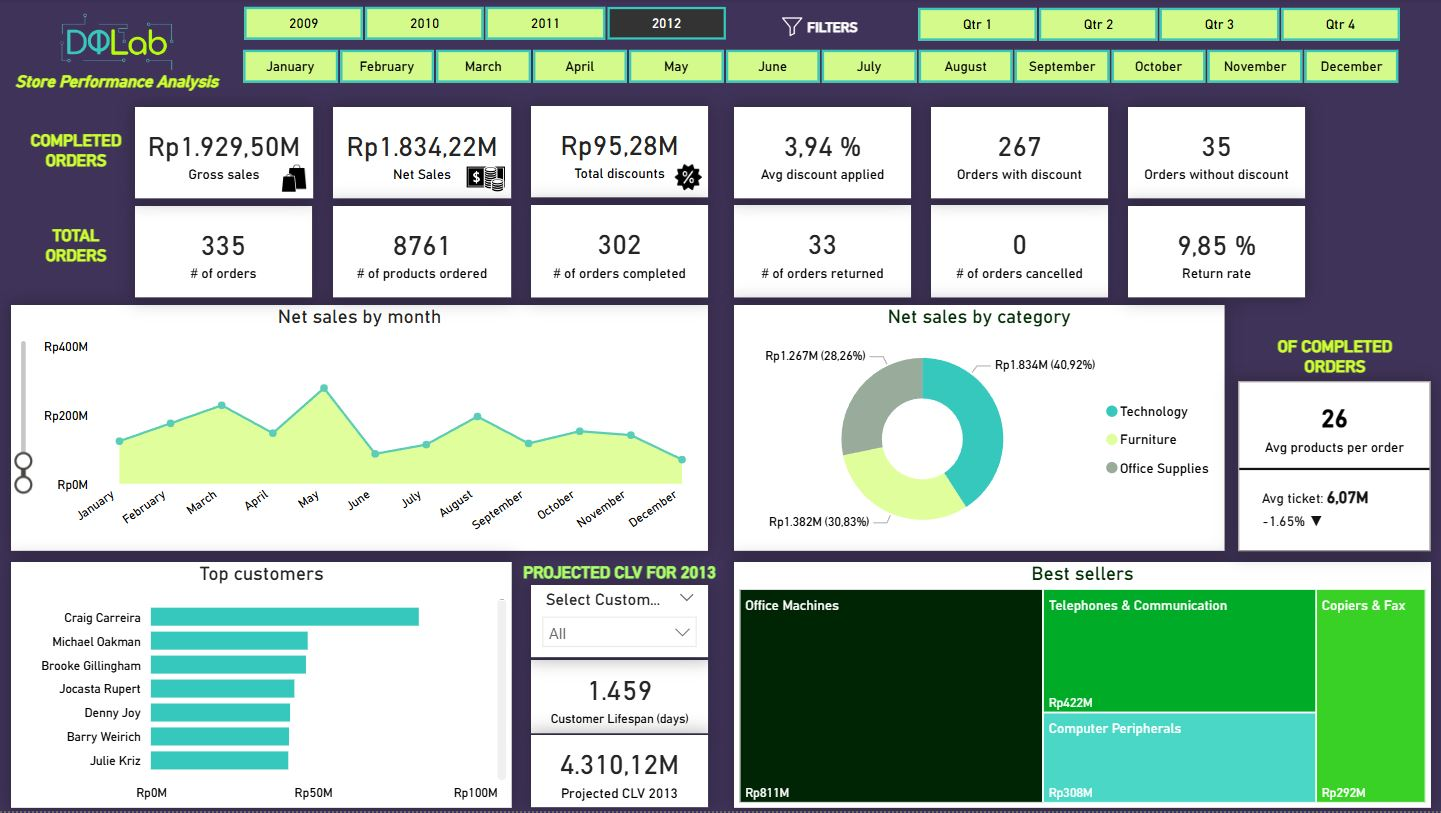

The page's visual inventory and layout, read from the dashboard file:
{"tool":"powerbi","page":{"name":"DQLab Sales Analysis","canvas":[1280,720],"ordinal":0},"visuals":[{"type":"card","fields":{"Values":["clean_data.Net Sales"]},"box":[296.1,95.8,157.8,80.7],"z":0},{"type":"card","fields":{"Values":["clean_data.Suma Descuentos"]},"box":[471.6,95.8,156.9,80.7],"z":1000},{"type":"slicer","fields":{"Values":["Calendar.Date.Variation.Date Hierarchy.Quarter"]},"box":[789.2,0.9,476.9,39],"z":2000},{"type":"slicer","fields":{"Values":["Calendar.Date.Variation.Date Hierarchy.Year"]},"box":[191.5,0,476.9,38.1],"z":3000},{"type":"areaChart","title":"Net sales by month","fields":{"Y":["Sum(clean_data.sales)"],"Category":["Calendar.Date.Variation.Date Hierarchy.Month"]},"box":[10.2,271.4,618.2,218.4],"z":4000},{"type":"card","fields":{"Values":["clean_data.Total Orders"]},"box":[131.1,183.1,146.9,80.9],"z":5000},{"type":"card","fields":{"Values":["clean_data.# of Orders Completed"]},"box":[471.6,182.7,156.9,81.6],"z":6000},{"type":"card","fields":{"Values":["clean_data.# of Orders Returned"]},"box":[651.6,182.7,156.9,81.6],"z":7000},{"type":"card","fields":{"Values":["clean_data.# of Orders Cancelled"]},"box":[826.3,182.7,156.9,81.6],"z":8000},{"type":"card","fields":{"Values":["clean_data.Avg Discount Applied"]},"box":[651.6,95.8,156.9,80.7],"z":9000},{"type":"image","box":[27.9,8.4,154.3,60.4],"z":10000},{"type":"donutChart","title":"Net sales by category","fields":{"Category":["clean_data.product_category"],"Y":["Sum(clean_data.sales)"]},"box":[651.6,271.4,435,218.4],"z":11000},{"type":"treemap","title":"Best sellers","fields":{"Group":["clean_data.product_sub_category"],"Values":["Sum(clean_data.sales)"]},"box":[651.6,499.2,618.2,218.4],"z":12000},{"type":"clusteredBarChart","title":"Top customers","fields":{"Category":["clean_data.customer"],"Y":["Sum(clean_data.sales)"]},"box":[10.2,499.2,444.3,218.4],"z":13000},{"type":"cardVisual","fields":{"Data":["clean_data.Product Ticket Medio"]},"box":[1098.7,304.9,171,151.5],"z":14000},{"type":"card","fields":{"Values":["clean_data.Total Products Ordered"]},"box":[296.5,183.1,158,80.9],"z":15000},{"type":"card","fields":{"Values":["clean_data.gross_sales"]},"box":[131.1,95.8,147.2,80.7],"z":16000},{"type":"image","box":[414.6,136.6,39,44.6],"z":17000},{"type":"image","box":[593.1,141.3,35.3,34.4],"z":18000},{"type":"image","box":[236,178.4,42.8,47.3],"z":19000},{"type":"slicer","fields":{"Values":["Calendar.Date.Variation.Date Hierarchy.Month"]},"box":[191,38.2,1074.4,41.8],"z":20000},{"type":"textbox","box":[689.6,10.9,98.3,42.8],"z":21000},{"type":"card","fields":{"Values":["clean_data.Discount Orders"]},"box":[826.3,95.8,156.9,80.7],"z":22000},{"type":"image","box":[685.9,10.9,33.7,28.2],"z":23000},{"type":"card","fields":{"Values":["clean_data.No Discount Orders"]},"box":[1001.1,95.7,157.1,80.9],"z":24000},{"type":"card","fields":{"Values":["clean_data.Return Rate"]},"box":[1001.1,183.1,157.1,80.9],"z":25000},{"type":"card","fields":{"Values":["clean_data.Avg Customer Lifespan"]},"box":[471.3,586.6,157.1,64.1],"z":26000},{"type":"card","fields":{"Values":["clean_data.CLV"]},"box":[471.3,653.5,157.1,64.1],"z":27000},{"type":"textbox","box":[0,59.5,209.2,40.9],"z":28000},{"type":"slicer","fields":{"Values":["clean_data.customer"]},"box":[471.3,519.6,157.1,64.1],"z":29000},{"type":"textbox","box":[451.8,495.5,196.1,40.9],"z":30000}]}

Visuals, with their boxes in screenshot pixels (x1, y1, x2, y2), scaled from the page's 1280x720 canvas onto the 1441x813 screenshot:
card - clean_data.Net Sales: left=333, top=108, right=511, bottom=199
card - clean_data.Suma Descuentos: left=531, top=108, right=708, bottom=199
slicer - Calendar.Date.Variation.Date Hierarchy.Quarter: left=888, top=1, right=1425, bottom=45
slicer - Calendar.Date.Variation.Date Hierarchy.Year: left=216, top=0, right=752, bottom=43
"Net sales by month" areaChart: left=11, top=306, right=707, bottom=553
card - clean_data.Total Orders: left=148, top=207, right=313, bottom=298
card - clean_data.# of Orders Completed: left=531, top=206, right=708, bottom=298
card - clean_data.# of Orders Returned: left=734, top=206, right=910, bottom=298
card - clean_data.# of Orders Cancelled: left=930, top=206, right=1107, bottom=298
card - clean_data.Avg Discount Applied: left=734, top=108, right=910, bottom=199
image: left=31, top=9, right=205, bottom=78
"Net sales by category" donutChart: left=734, top=306, right=1223, bottom=553
"Best sellers" treemap: left=734, top=564, right=1430, bottom=810
"Top customers" clusteredBarChart: left=11, top=564, right=512, bottom=810
cardVisual - clean_data.Product Ticket Medio: left=1237, top=344, right=1429, bottom=515
card - clean_data.Total Products Ordered: left=334, top=207, right=512, bottom=298
card - clean_data.gross_sales: left=148, top=108, right=313, bottom=199
image: left=467, top=154, right=511, bottom=205
image: left=668, top=160, right=707, bottom=198
image: left=266, top=201, right=314, bottom=255
slicer - Calendar.Date.Variation.Date Hierarchy.Month: left=215, top=43, right=1425, bottom=90
textbox: left=776, top=12, right=887, bottom=61
card - clean_data.Discount Orders: left=930, top=108, right=1107, bottom=199
image: left=772, top=12, right=810, bottom=44
card - clean_data.No Discount Orders: left=1127, top=108, right=1304, bottom=199
card - clean_data.Return Rate: left=1127, top=207, right=1304, bottom=298
card - clean_data.Avg Customer Lifespan: left=531, top=662, right=707, bottom=735
card - clean_data.CLV: left=531, top=738, right=707, bottom=810
textbox: left=0, top=67, right=236, bottom=113
slicer - clean_data.customer: left=531, top=587, right=707, bottom=659
textbox: left=509, top=560, right=729, bottom=606
